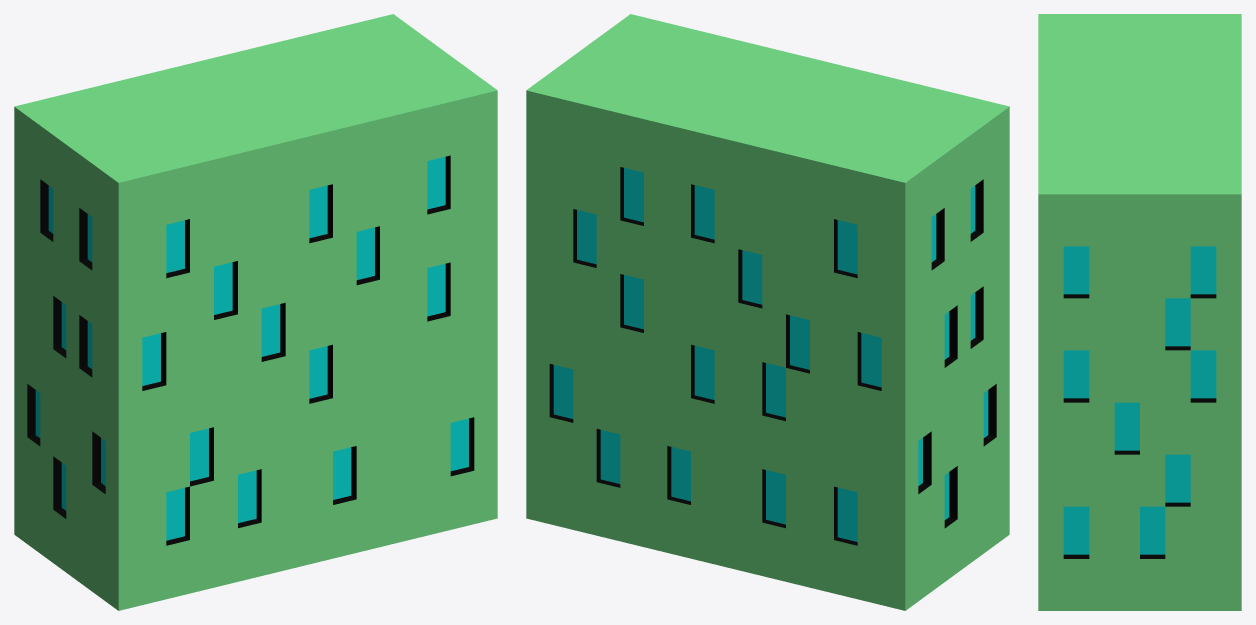
The model's file is buildiing 7 (lime).fbx.
3 renders of one model, left to right at view 1: azimuth 30°, elevation 25°; view 2: azimuth 150°, elevation 25°; view 3: azimuth 270°, elevation 25°, orthographic. The views are drawn at different scales.
Parts seen in each view (by area): view 1: Cube; view 2: Cube; view 3: Cube.
Part boxes in pixels (x1,y1,x2,y2): Cube: (14, 14, 497, 610); Cube: (526, 14, 1009, 610); Cube: (1038, 14, 1241, 610).
Bounding box in the file's own units: 2133 × 2301 × 1017.
